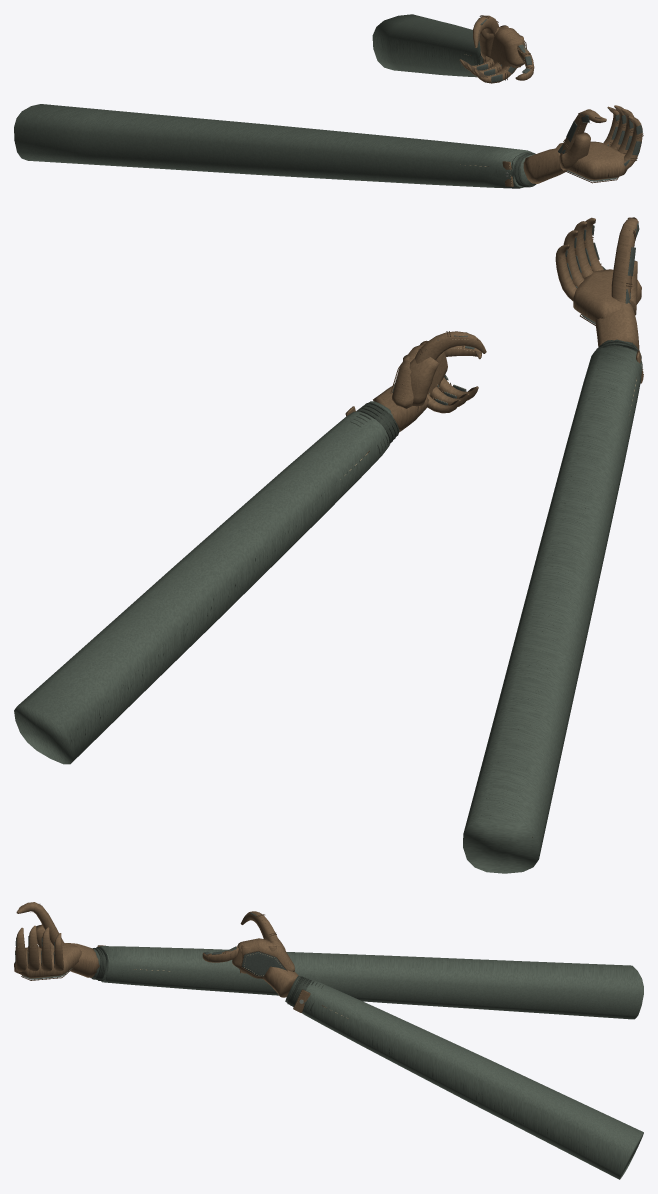
File: hands-shotgun.glb
3 views of the same model, one above another, from view 1: azimuth 30°, elevation 25°; view 2: azimuth 150°, elevation 25°; view 3: azimuth 270°, elevation 25° (orthographic). The views are drawn at different scales.
Parts seen in each view (by area): view 1: LeftHand, RightHand; view 2: LeftHand, RightHand; view 3: LeftHand, RightHand.
Part boxes in pixels (x1,y1,x2,y2): LeftHand: [14, 104, 643, 188]; RightHand: [372, 14, 534, 83]; LeftHand: [463, 217, 643, 873]; RightHand: [14, 331, 486, 764]; LeftHand: [14, 902, 643, 1019]; RightHand: [202, 911, 643, 1179].
Bounding box in the file's own units: 0.804 × 0.424 × 1.15.
8 materials, 6 textured.
